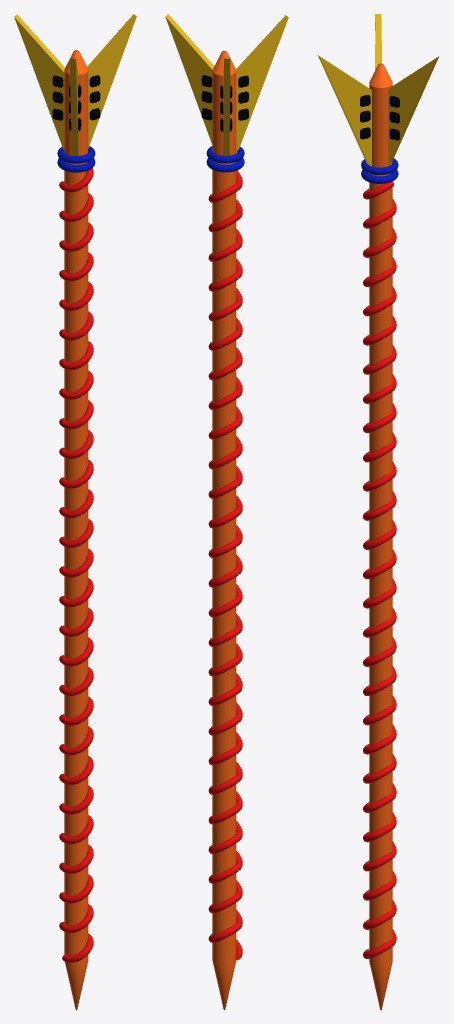
The model's file is atış_oku_2.fbx.
The picture shows the model from 3 angles, left to right: view 1: azimuth 30°, elevation 25°; view 2: azimuth 150°, elevation 25°; view 3: azimuth 330°, elevation 25°; orthographic projection.
Visible parts, largest first — view 1: Cylinder, Plane.002, Plane.001, Plane, Torus, Torus.029, Torus.050, Torus.014, Torus.003, Torus.019, Torus.040, Torus.052 (+20 smaller); view 2: Cylinder, Plane, Plane.001, Plane.002, Torus, Torus.001; view 3: Cylinder, Plane, Plane.001, Plane.002, Torus, Torus.001.
Boxes of the visible parts, <box> form: Cylinder: <box>64,50,88,1009</box>; Plane.002: <box>14,14,64,149</box>; Plane.001: <box>87,14,136,148</box>; Plane: <box>69,58,78,155</box>; Torus: <box>57,146,95,163</box>; Torus.029: <box>62,578,93,607</box>; Torus.050: <box>62,341,93,370</box>; Torus.014: <box>62,815,93,844</box>; Torus.003: <box>62,904,93,933</box>; Torus.019: <box>62,726,93,755</box>; Torus.040: <box>62,489,93,518</box>; Torus.052: <box>62,252,93,281</box>; Cylinder: <box>212,51,236,1009</box>; Plane: <box>236,15,288,153</box>; Plane.001: <box>165,14,214,144</box>; Plane.002: <box>223,58,230,155</box>; Torus: <box>206,146,244,163</box>; Torus.001: <box>206,158,244,172</box>; Cylinder: <box>369,63,392,1009</box>; Plane: <box>317,55,371,166</box>; Plane.001: <box>388,56,439,164</box>; Plane.002: <box>375,14,381,69</box>; Torus: <box>361,158,398,174</box>; Torus.001: <box>361,169,398,183</box>.
Bounding box in the file's own units: 28.08 × 280 × 31.24.
